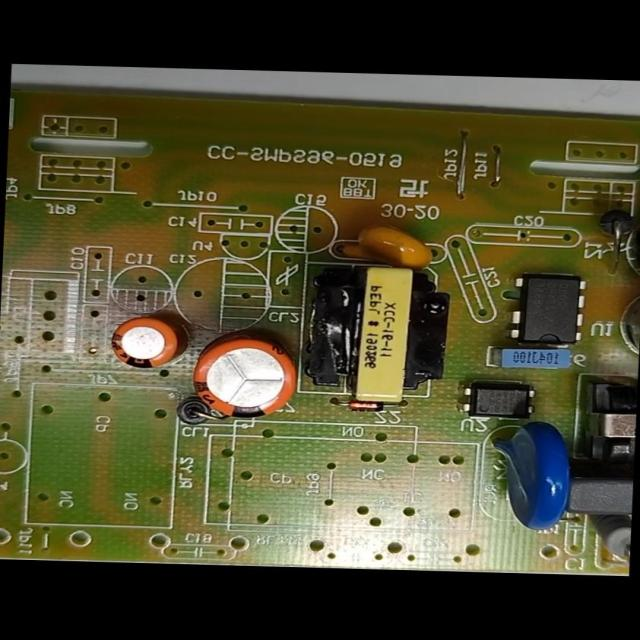Cap1: (187, 332, 298, 422)
Cap2: (100, 314, 186, 372)
Cap3: (610, 288, 640, 385)
MOSFET: (509, 274, 589, 347)
Mov: (484, 420, 573, 534)
Resistor: (581, 513, 631, 563)
Transformer: (307, 262, 456, 409), (588, 384, 636, 474)
